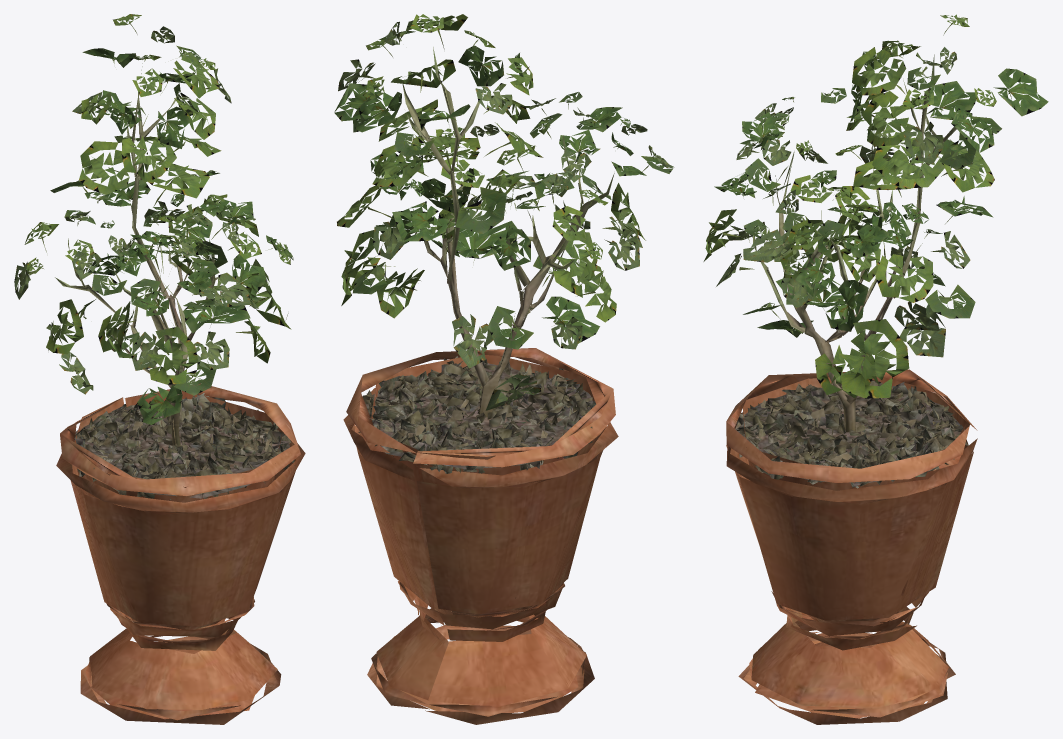
The model's file is potted_plant_01.glb.
3 renders of one model, left to right at view 1: azimuth 30°, elevation 25°; view 2: azimuth 150°, elevation 25°; view 3: azimuth 270°, elevation 25°, orthographic. The views are drawn at different scales.
Visible parts, largest first — view 1: potted_plant_01_pot, potted_plant_01_leaves, potted_plant_01_pebbles, potted_plant_01_stem; view 2: potted_plant_01_pot, potted_plant_01_leaves, potted_plant_01_pebbles, potted_plant_01_stem; view 3: potted_plant_01_pot, potted_plant_01_leaves, potted_plant_01_pebbles, potted_plant_01_stem.
Part boxes in pixels (x1,y1,x2,y2): potted_plant_01_pot: (56, 383, 305, 724); potted_plant_01_leaves: (14, 14, 293, 424); potted_plant_01_pebbles: (74, 393, 295, 499); potted_plant_01_stem: (55, 63, 218, 445); potted_plant_01_pot: (343, 348, 618, 724); potted_plant_01_leaves: (334, 14, 674, 410); potted_plant_01_pebbles: (358, 356, 596, 473); potted_plant_01_stem: (402, 47, 614, 417); potted_plant_01_pot: (726, 369, 977, 724); potted_plant_01_leaves: (703, 14, 1048, 398); potted_plant_01_pebbles: (735, 380, 968, 488); potted_plant_01_stem: (753, 54, 966, 431).
Size of the model in its own units: 0.587 by 1.33 by 0.6305.
2 materials, 2 textured.
